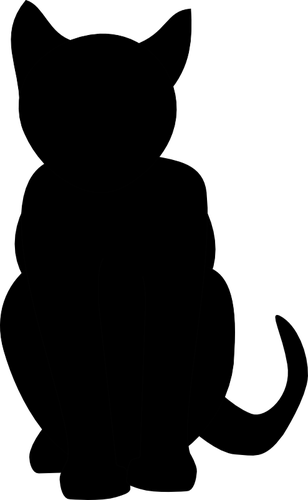cat: (1, 1, 308, 495)
